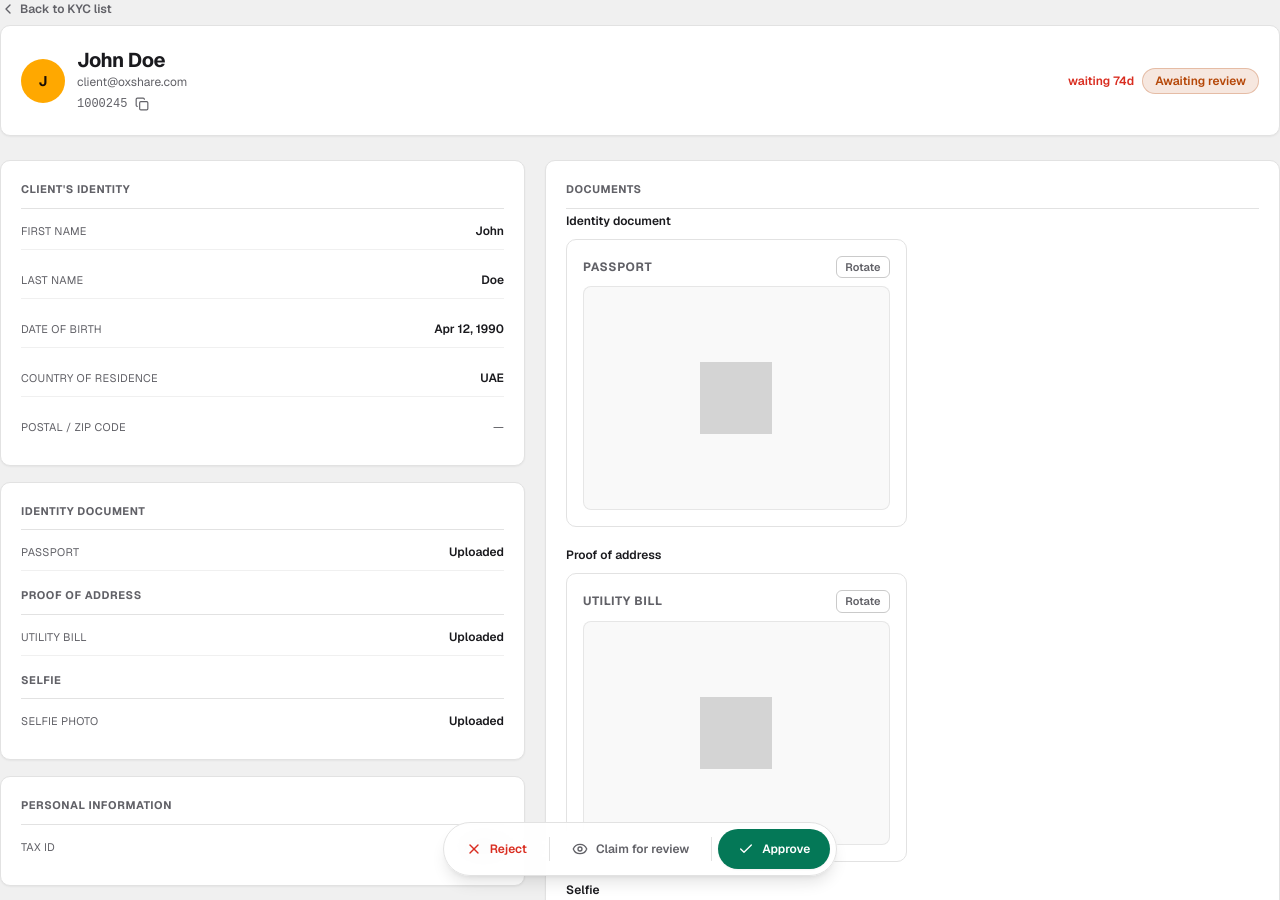
Test case: KYC review — rejection requires a reason › disables Confirm Rejection until a reason or a note is given
The width and height of the screenshot is (1280, 900).
Click the button with aria-label "reject kyc submission".
click(496, 849)  # box top-left (450, 829), bottom-right (543, 869)
(page scrolled)
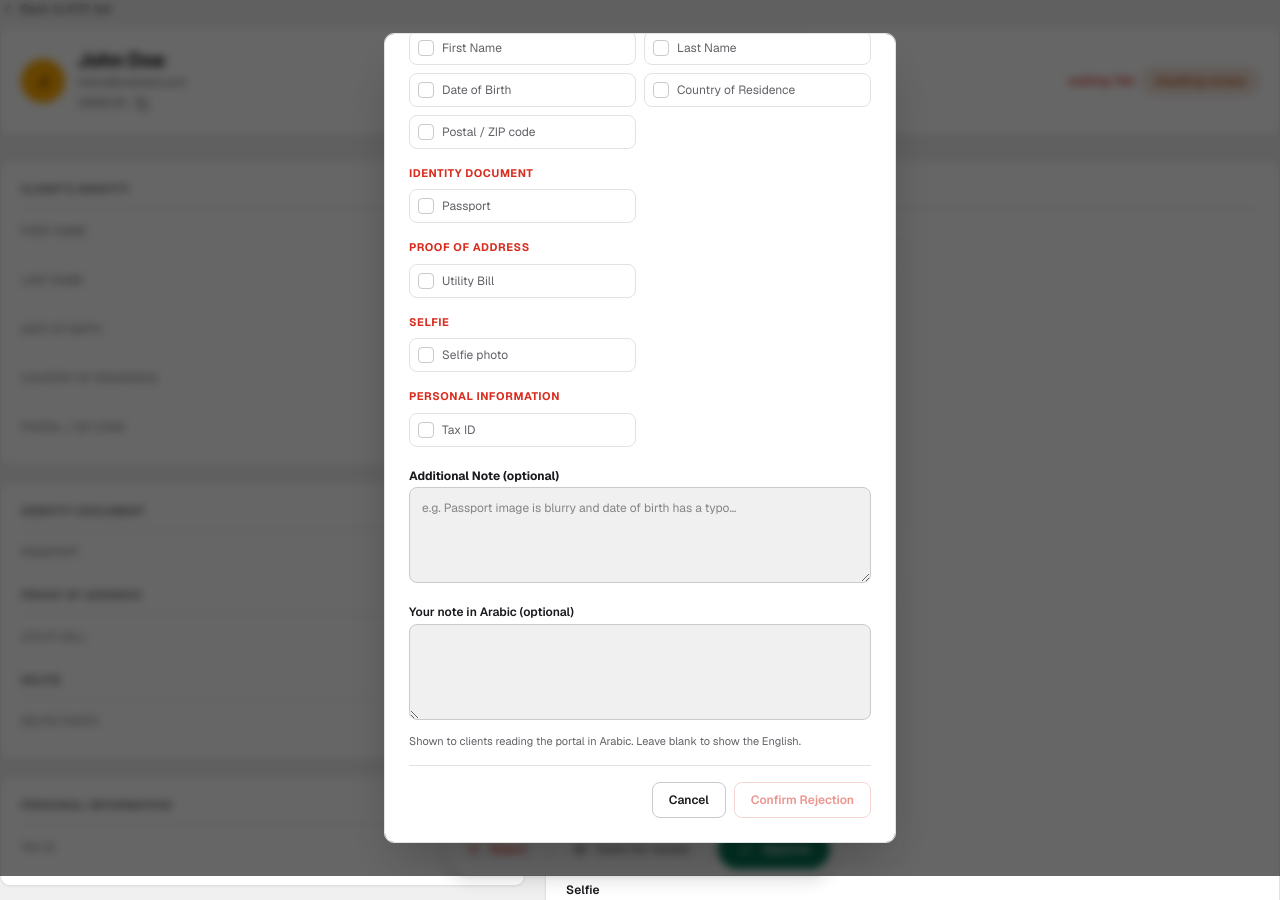
Expected: the button "Confirm Rejection" is disabled, top-left (734, 782), bottom-right (871, 818)
